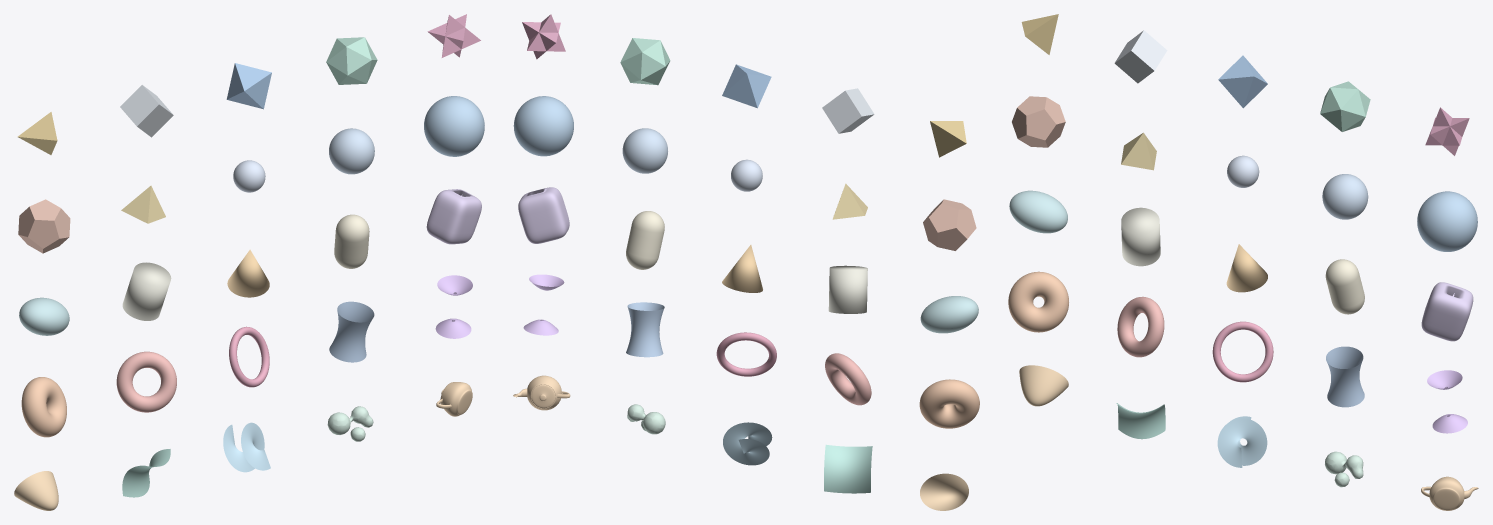
The model's file is platonic-solids.glb.
3 views of the same model, side by side, from view 1: azimuth 30°, elevation 25°; view 2: azimuth 150°, elevation 25°; view 3: azimuth 330°, elevation 25° (orthographic).
Parts seen in each view (by area): view 1: SphereLarge, Superellipsoid, TorusCenterMedium, TorusCenterSmall, Cylinder, Dodecahedron, HyperboloidOneSheet, Icosahedron, SphereMedium, Helicoid, Capsule, Ellipsoid (+13 smaller); view 2: SphereLarge, TorusCenterSmall, Superellipsoid, HyperbolicParaboloid, Dodecahedron, Cylinder, Icosahedron, Capsule, HyperboloidOneSheet, Ellipsoid, Helicoid, SphereMedium (+13 smaller); view 3: SphereLarge, TorusCenterSmall, Superellipsoid, Dodecahedron, Cylinder, TorusCenterMedium, Helicoid, HyperboloidOneSheet, Ellipsoid, Icosahedron, SphereMedium, Capsule (+13 smaller).
Boxes of the visible parts, x1,y1,x2,y2 form: SphereLarge: [424, 96, 484, 156]; Superellipsoid: [426, 189, 481, 244]; TorusCenterMedium: [116, 351, 176, 412]; TorusCenterSmall: [21, 377, 66, 437]; Cylinder: [122, 262, 171, 320]; Dodecahedron: [18, 199, 70, 253]; HyperboloidOneSheet: [329, 301, 374, 362]; Icosahedron: [326, 37, 377, 84]; SphereMedium: [329, 128, 374, 174]; Helicoid: [223, 422, 270, 472]; Capsule: [334, 214, 369, 268]; Ellipsoid: [19, 297, 69, 335]; SphereLarge: [513, 96, 573, 156]; TorusCenterSmall: [919, 379, 979, 428]; Superellipsoid: [518, 187, 569, 243]; HyperbolicParaboloid: [824, 444, 872, 493]; Dodecahedron: [923, 199, 976, 250]; Cylinder: [828, 265, 867, 313]; Icosahedron: [620, 38, 670, 85]; Capsule: [626, 211, 664, 269]; HyperboloidOneSheet: [626, 302, 664, 357]; Ellipsoid: [920, 296, 978, 333]; Helicoid: [723, 422, 772, 465]; SphereMedium: [622, 128, 667, 173]; SphereLarge: [1417, 191, 1477, 251]; TorusCenterSmall: [1008, 271, 1068, 332]; Superellipsoid: [1421, 282, 1473, 341]; Dodecahedron: [1012, 96, 1065, 147]; Cylinder: [1121, 207, 1160, 266]; TorusCenterMedium: [1117, 296, 1164, 357]; Helicoid: [1217, 416, 1267, 467]; HyperboloidOneSheet: [1326, 346, 1364, 407]; Ellipsoid: [1009, 190, 1067, 233]; Icosahedron: [1320, 81, 1370, 131]; SphereMedium: [1322, 174, 1368, 219]; Capsule: [1325, 259, 1364, 314].
Size of the model in its own units: 17.1 by 14.48 by 1.96.
